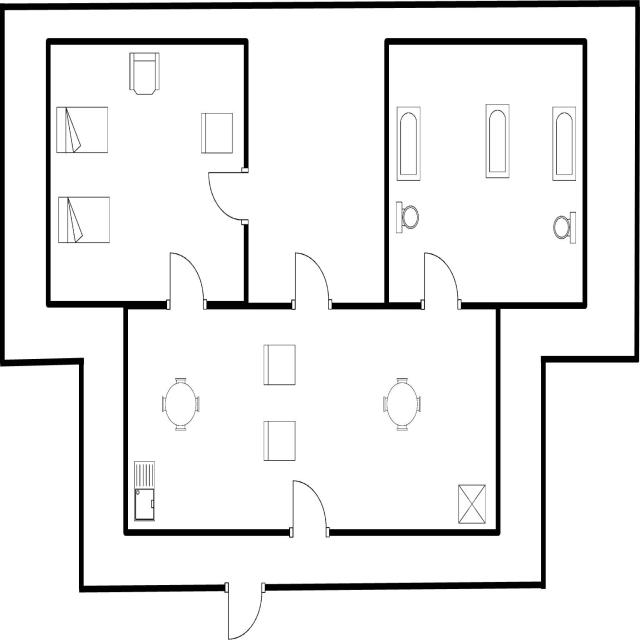armchair: (125, 47, 164, 98)
bed: (53, 102, 115, 160), (54, 192, 112, 248)
coffee_table: (456, 480, 488, 529)
large_sink: (549, 206, 580, 251), (393, 198, 420, 238)
round_table: (379, 372, 423, 436), (158, 372, 203, 434)
sink: (131, 457, 158, 525)
small_sofa: (198, 107, 236, 161), (259, 416, 299, 465), (260, 340, 298, 390)
tub: (392, 100, 423, 186), (481, 99, 512, 184), (548, 102, 580, 184)
